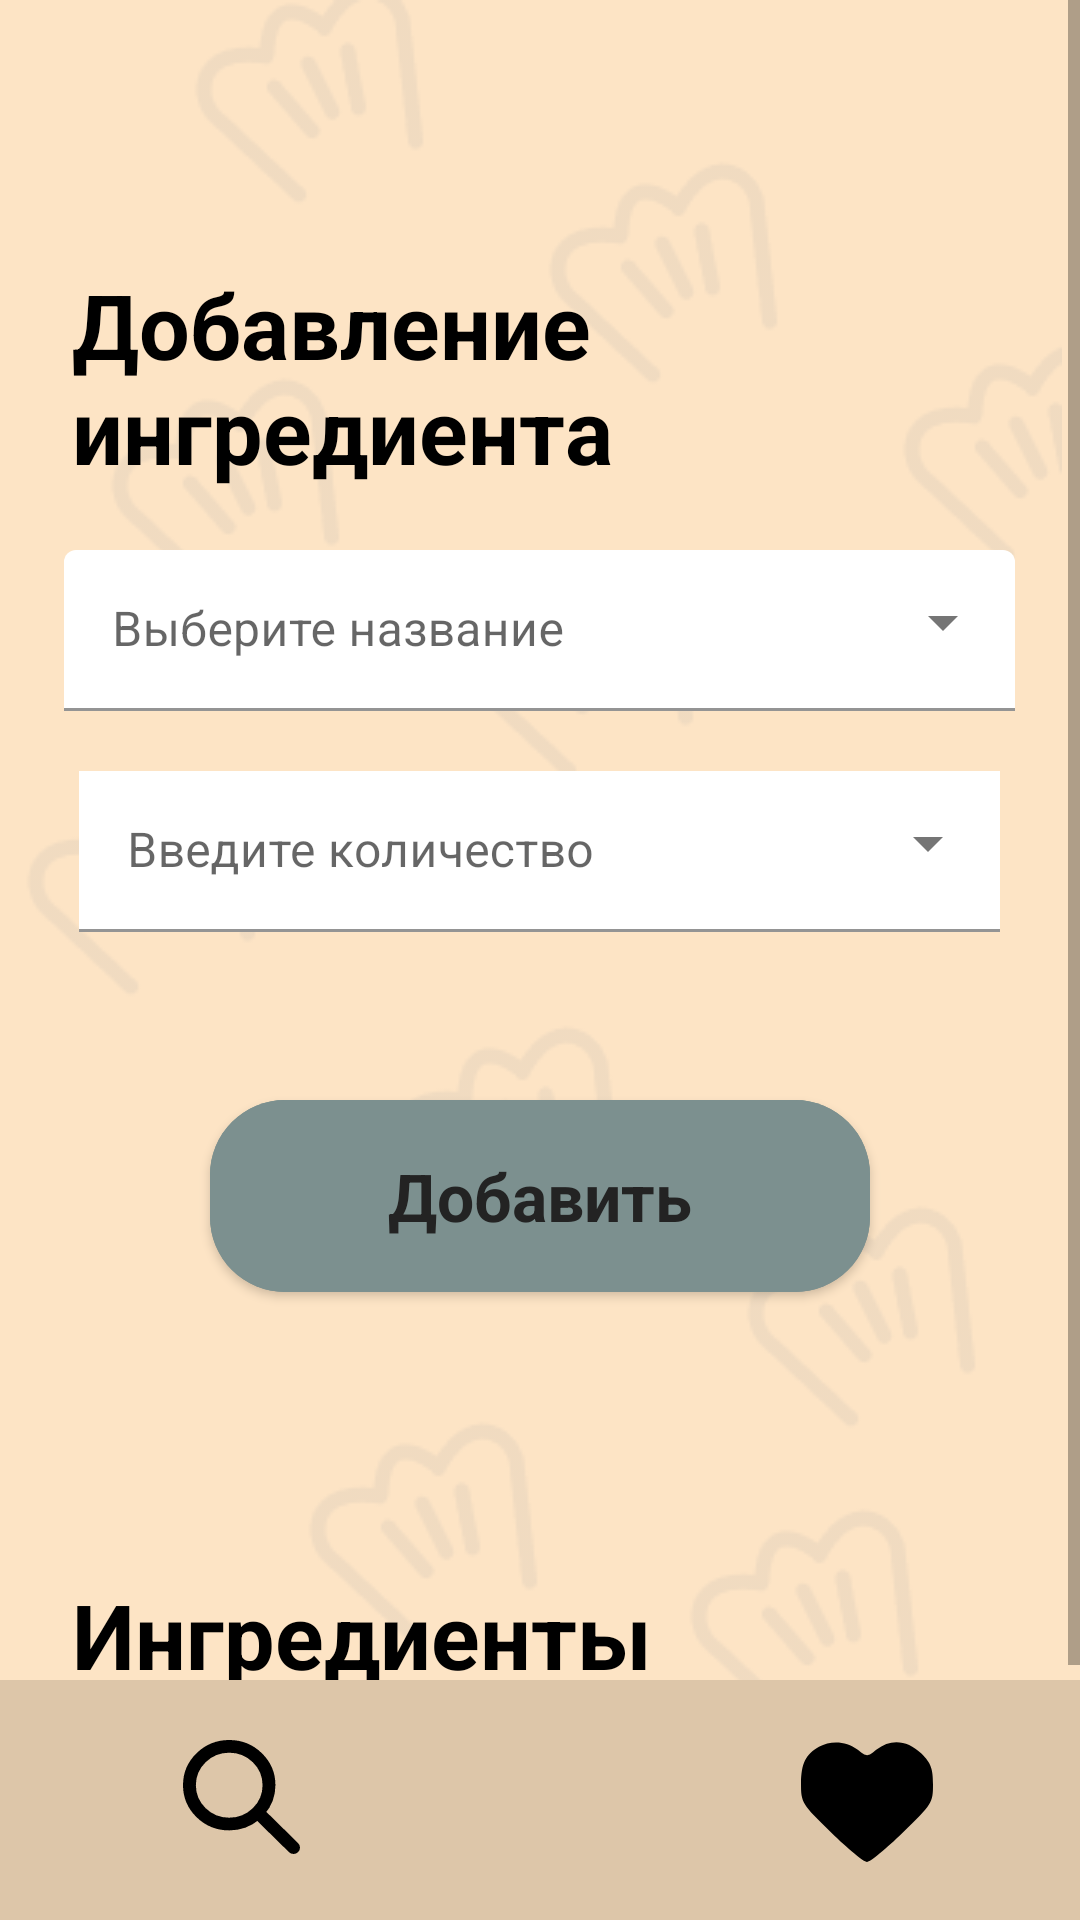

Point at icon controls on the screen. Image size 1080px x 1920px, points as point (x, y).
fillheart: point (867, 1802)
magnifier: point (241, 1797)
